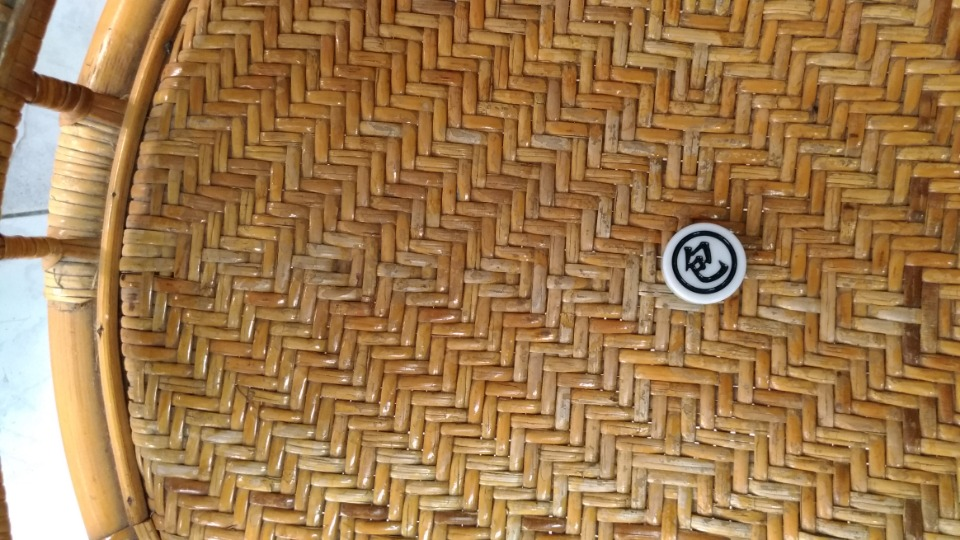b-cannon: (657, 205, 765, 321)
